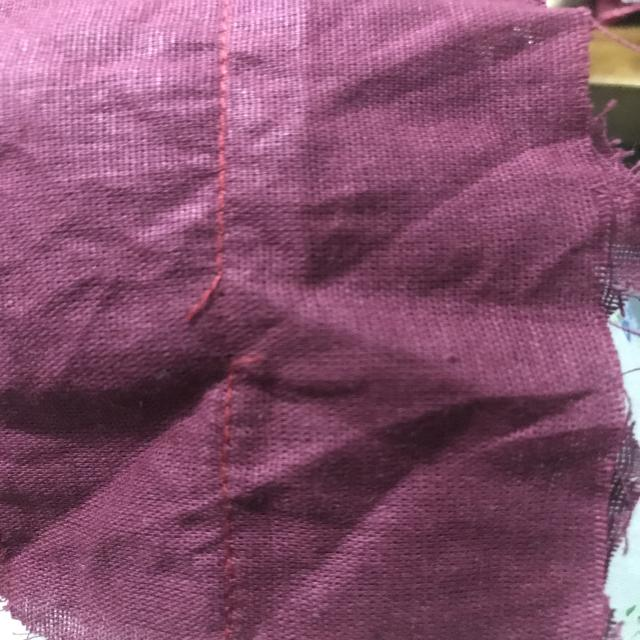broken: (160, 261, 282, 384)
good: (197, 422, 260, 544)
